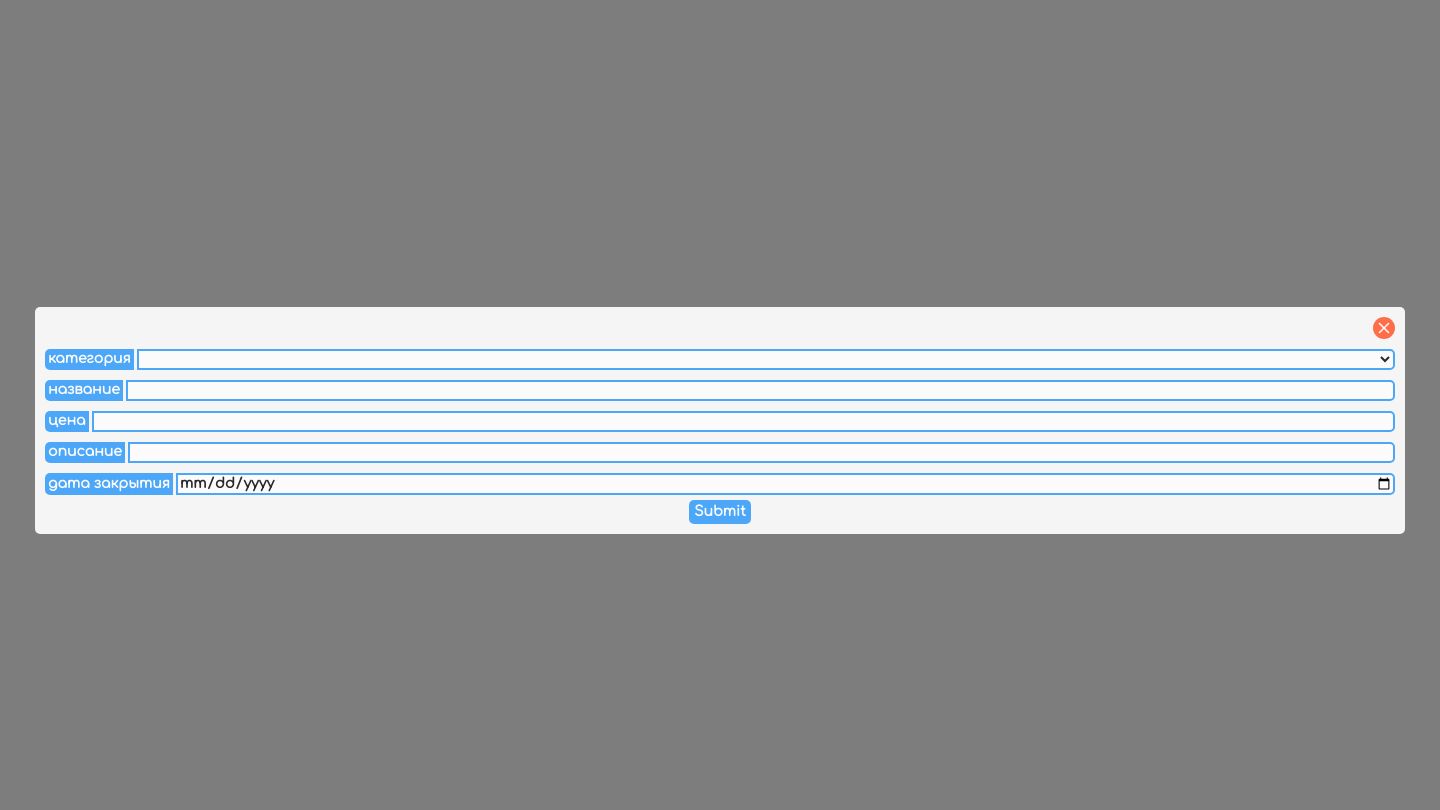
Test: Модальное окно добавление товара › отправка пустых полей
The image size is (1440, 810).
Click the button with test id "submit": point(720, 512) [689,500,751,524]
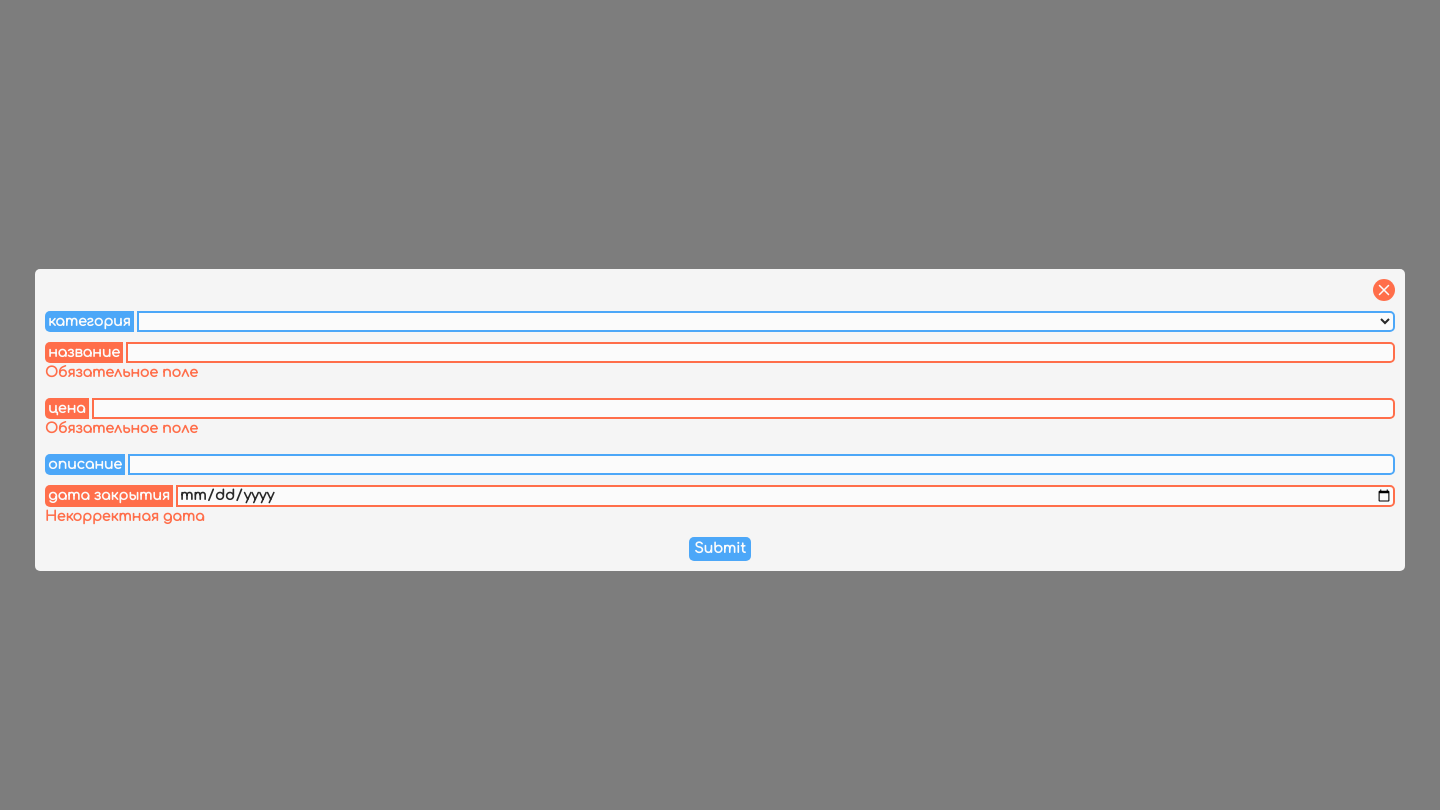
Check: the text "Некорректная дата" is shown, box [45,509,205,524]
